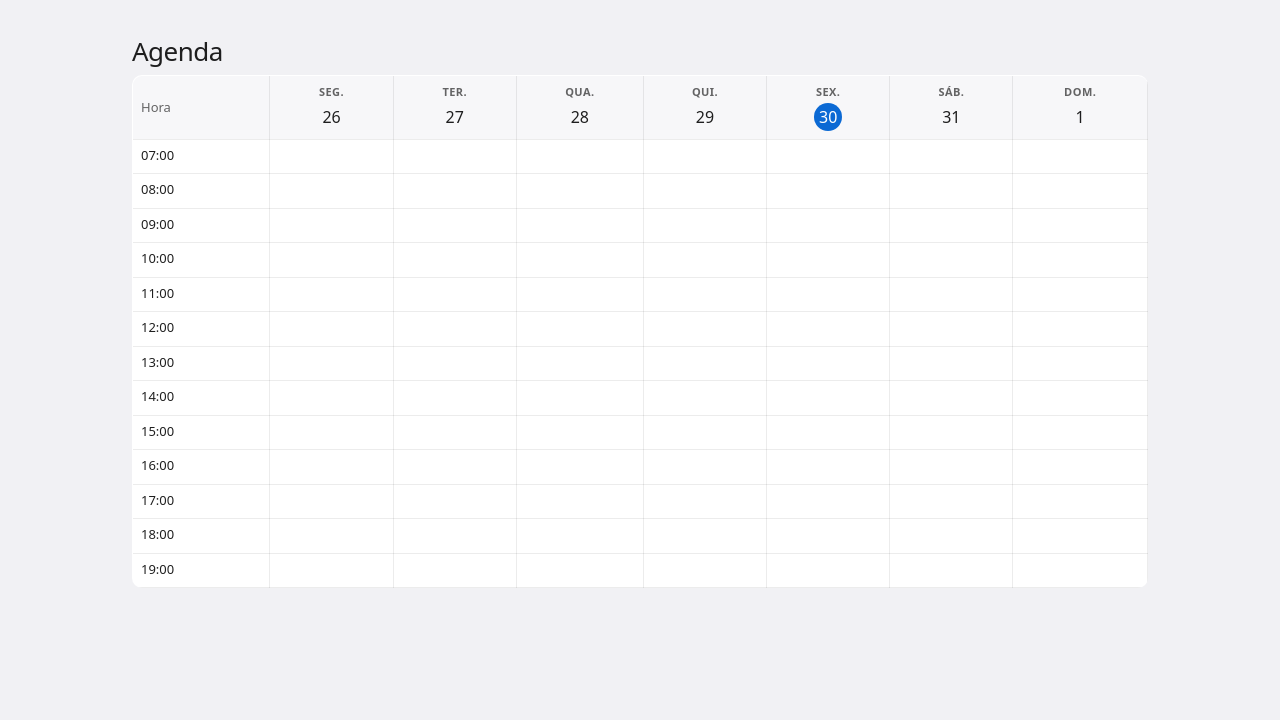
agenda › clicar num horario abre o dialogo ja com aquele horario
Click the cell named "Agendar 26/10/2026, 07:00:00" at (332, 156), box [270,139,393,174]
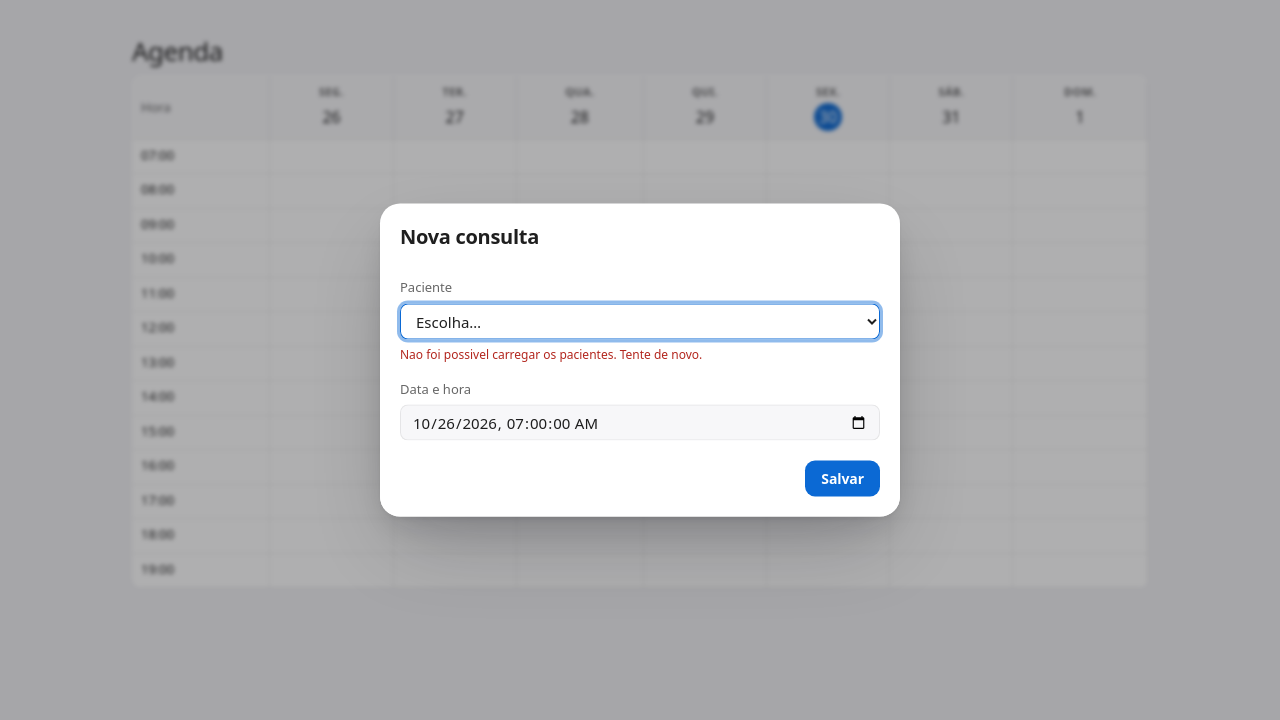
Now the dialog is shown, box [380,204,900,516]
